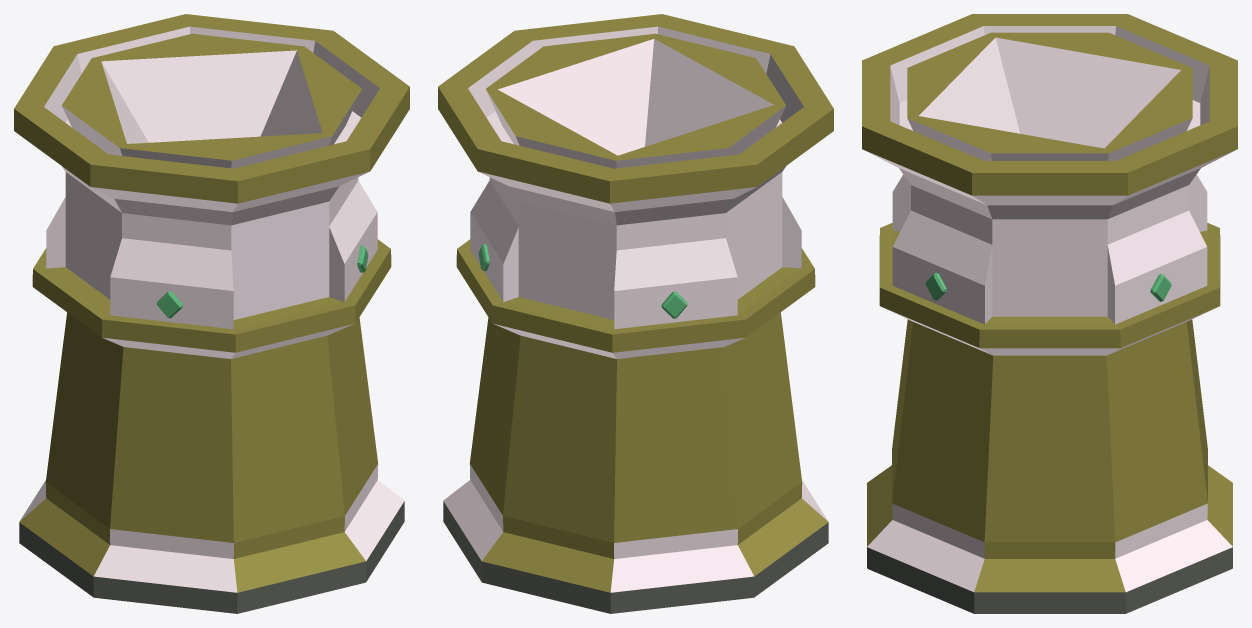
The model's file is 8.2垂直控制器.fbx.
3 renders of one model, left to right at view 1: azimuth 30°, elevation 25°; view 2: azimuth 150°, elevation 25°; view 3: azimuth 270°, elevation 25°, orthographic.
Visible parts, largest first — view 1: 柱体, 平面.002; view 2: 柱体, 平面.002; view 3: 柱体, 平面.002.
Boxes of the visible parts, <box> form: 柱体: <box>14,14,409,613</box>; 平面.002: <box>157,245,368,318</box>; 柱体: <box>438,14,833,613</box>; 平面.002: <box>478,244,687,318</box>; 柱体: <box>862,14,1237,613</box>; 平面.002: <box>925,272,1171,301</box>.
Bounding box in the file's own units: 76.17 × 99.2 × 76.17.
